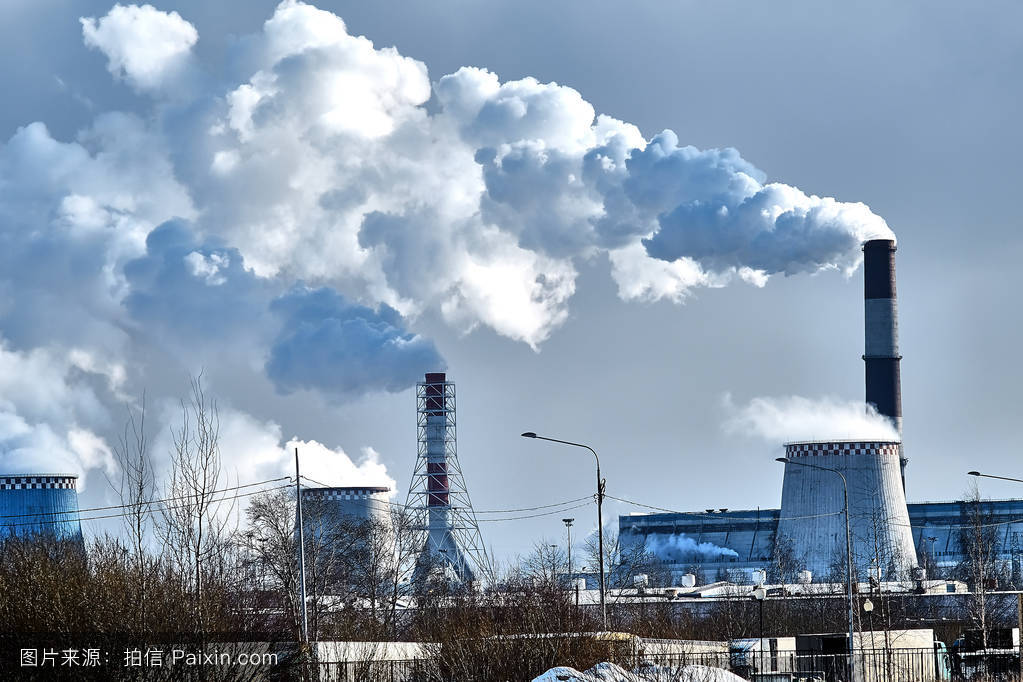dust: (536, 94, 912, 279), (176, 241, 462, 403), (146, 384, 403, 511), (714, 375, 918, 455)
